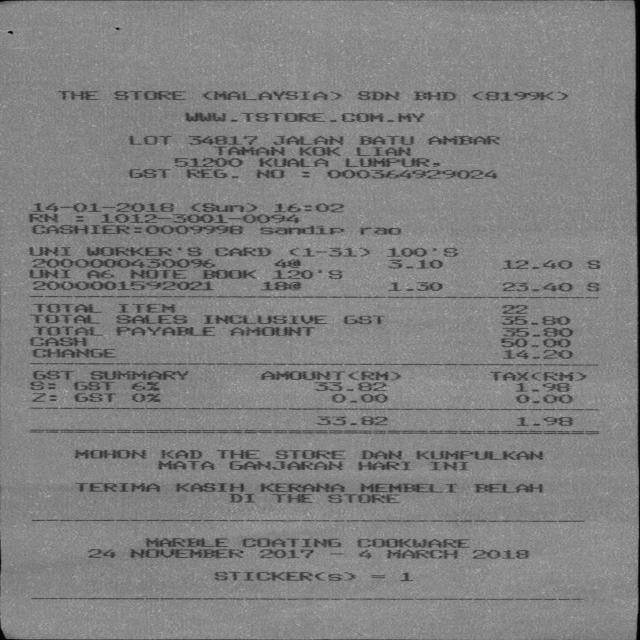text: (98, 214, 298, 224), (29, 258, 214, 268), (326, 169, 497, 179), (30, 281, 213, 290), (212, 571, 355, 581), (31, 202, 172, 212), (126, 548, 244, 559), (260, 371, 400, 380), (201, 91, 340, 100), (415, 451, 542, 460), (355, 538, 468, 548), (203, 315, 326, 324), (84, 247, 200, 256), (229, 461, 341, 470), (114, 326, 214, 336), (240, 538, 340, 548), (31, 225, 142, 234), (147, 224, 246, 234), (501, 282, 599, 292), (469, 91, 566, 101), (358, 483, 455, 493), (488, 371, 584, 381), (240, 112, 323, 123), (87, 371, 187, 380), (501, 260, 599, 269), (257, 225, 343, 235), (74, 482, 160, 492), (344, 158, 439, 167), (29, 348, 114, 358), (143, 538, 227, 548), (288, 247, 369, 257), (311, 416, 388, 426), (229, 327, 314, 336), (259, 483, 344, 492), (172, 157, 241, 168), (72, 449, 145, 459), (386, 550, 459, 560), (180, 112, 236, 125), (426, 135, 498, 145), (271, 135, 342, 145), (272, 203, 343, 213), (386, 247, 457, 257), (501, 327, 572, 337), (498, 338, 569, 348), (501, 349, 572, 359), (28, 314, 98, 324), (32, 326, 102, 336), (314, 382, 384, 392), (472, 483, 542, 493), (187, 135, 256, 145), (32, 303, 101, 313), (500, 315, 569, 325), (112, 91, 184, 100), (114, 315, 186, 324), (272, 450, 344, 459), (326, 494, 398, 503), (213, 146, 284, 155), (256, 158, 327, 167), (173, 483, 243, 492), (272, 270, 341, 279), (188, 203, 256, 212), (27, 336, 86, 346), (116, 303, 174, 313), (128, 269, 185, 279), (514, 394, 571, 404), (357, 135, 413, 145), (386, 259, 442, 269), (200, 269, 256, 279), (331, 393, 387, 403), (515, 416, 571, 426), (157, 460, 213, 470), (468, 550, 530, 559), (514, 382, 568, 392), (185, 168, 238, 178), (213, 247, 270, 256), (354, 147, 410, 156), (260, 548, 310, 558), (387, 282, 441, 291), (336, 113, 384, 123), (356, 461, 409, 470), (28, 370, 74, 380), (411, 91, 455, 101), (126, 135, 170, 145), (214, 449, 258, 459), (355, 90, 398, 100), (158, 449, 201, 459), (297, 146, 339, 156), (27, 246, 69, 256), (270, 493, 312, 503), (342, 315, 383, 325), (260, 281, 300, 291), (72, 393, 115, 402), (429, 461, 467, 471), (56, 91, 98, 100), (27, 269, 69, 278), (128, 169, 168, 178), (72, 381, 112, 390), (360, 450, 400, 459), (357, 227, 400, 235), (394, 112, 424, 123), (128, 381, 158, 391), (85, 269, 113, 279), (254, 169, 284, 178), (130, 393, 159, 402), (227, 493, 253, 503), (26, 214, 57, 222), (499, 305, 526, 314), (86, 549, 113, 558), (274, 259, 300, 268), (29, 393, 55, 402), (29, 381, 54, 390), (398, 572, 411, 582), (360, 549, 370, 559), (74, 215, 82, 222), (369, 575, 384, 578)
